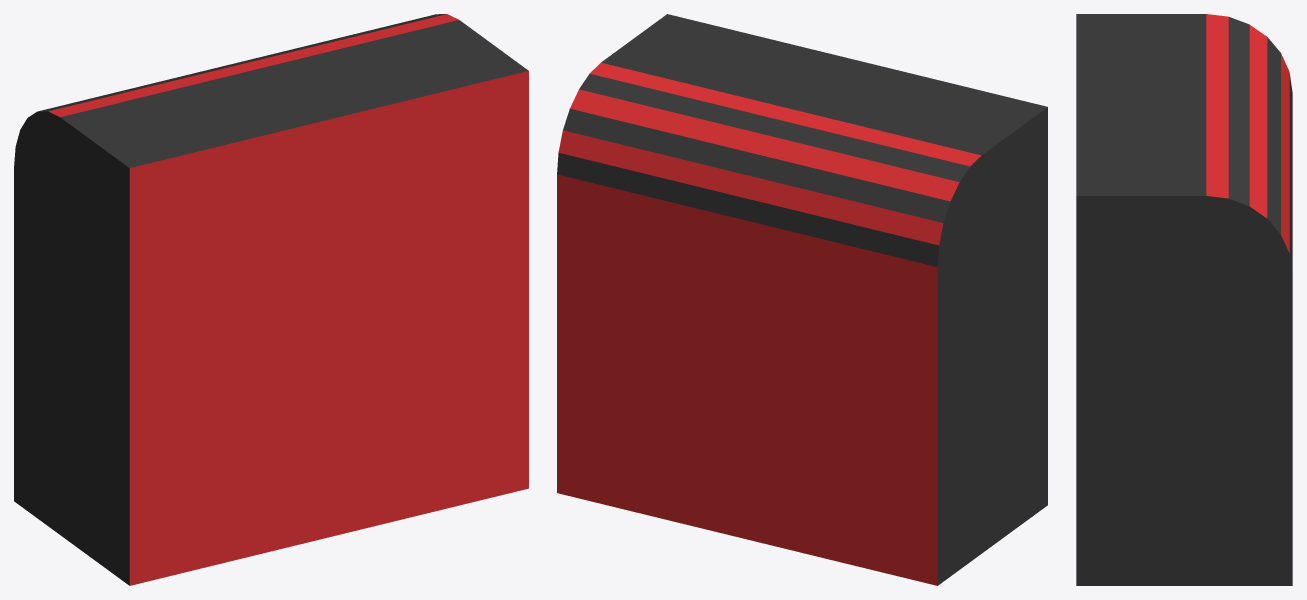
File: Mochila (1).fbx
The picture shows the model from 3 angles, left to right: view 1: azimuth 30°, elevation 25°; view 2: azimuth 150°, elevation 25°; view 3: azimuth 270°, elevation 25°; orthographic projection. The views are drawn at different scales.
Parts seen in each view (by area): view 1: Cube.001; view 2: Cube.001; view 3: Cube.001.
Boxes of the visible parts, x1,y1,x2,y2 form: Cube.001: (14, 14, 528, 585); Cube.001: (557, 14, 1047, 585); Cube.001: (1076, 14, 1292, 585).
Size of the model in its own units: 200 by 200 by 100.
